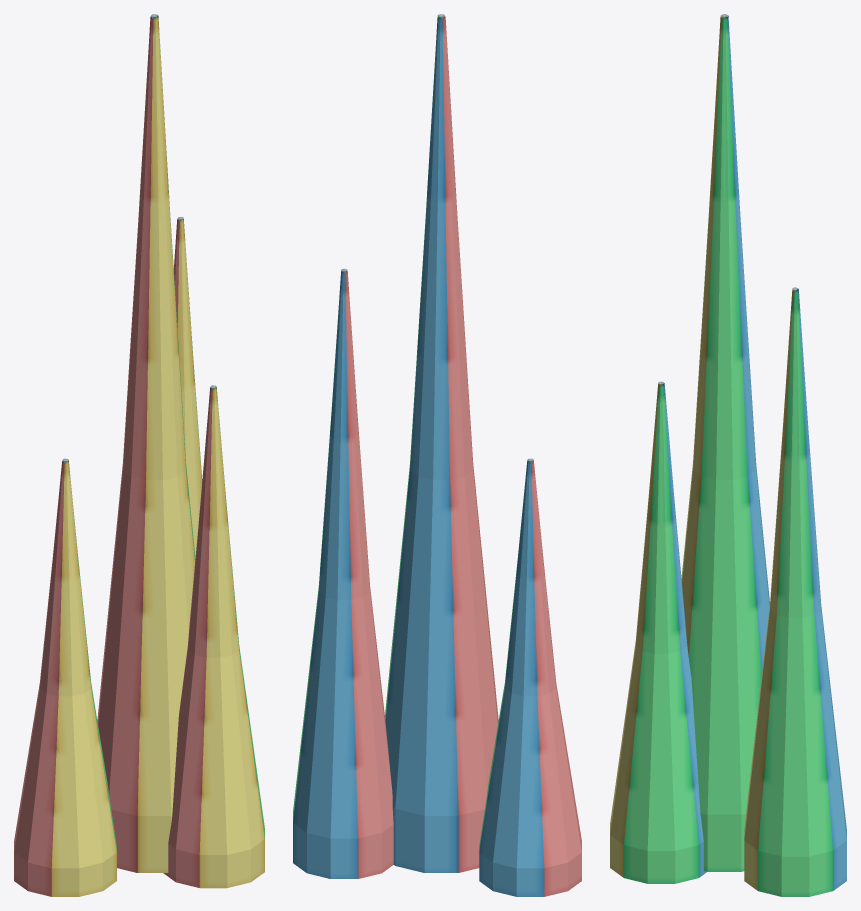
Rendered from icele.fbx.
The picture shows the model from 3 angles, left to right: view 1: azimuth 30°, elevation 25°; view 2: azimuth 150°, elevation 25°; view 3: azimuth 270°, elevation 25°; orthographic projection.
Parts seen in each view (by area): view 1: cylinder, cylinder_3, cylinder_1, cylinder_2; view 2: cylinder, cylinder_2, cylinder_1; view 3: cylinder, cylinder_2, cylinder_3.
Boxes of the visible parts, box(x1,y1,x2,y2) form: cylinder: box(97, 14, 195, 872); cylinder_3: box(163, 385, 264, 888); cylinder_1: box(14, 458, 116, 896); cylinder_2: box(173, 217, 202, 557); cylinder: box(385, 14, 498, 872); cylinder_2: box(293, 268, 393, 878); cylinder_1: box(479, 458, 581, 896); cylinder: box(681, 14, 769, 871); cylinder_2: box(744, 287, 846, 896); cylinder_3: box(610, 381, 706, 883).
Bounding box in the file's own units: 219 × 731 × 188.
Materials: 1 (1 with a texture image).
